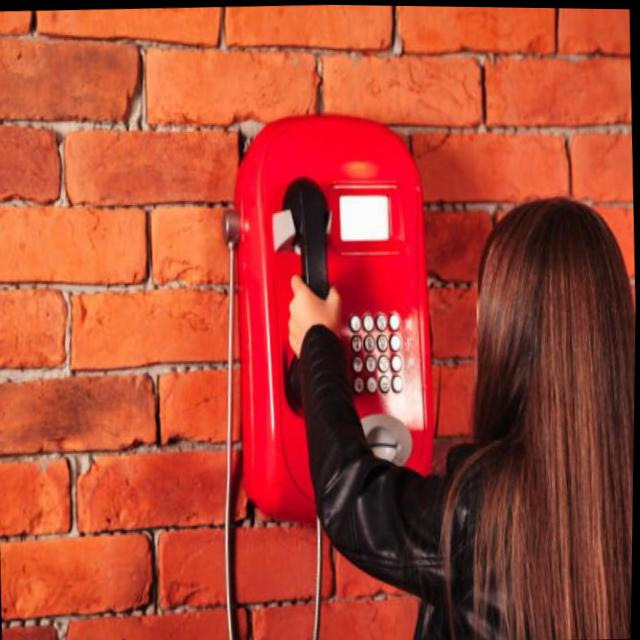no helmet: (473, 193, 638, 475)
